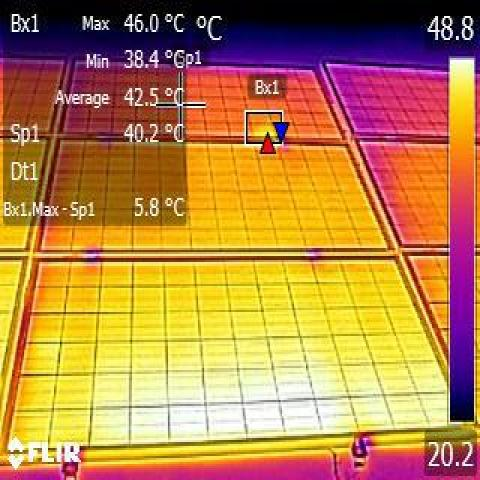fault: (164, 367, 311, 431)
